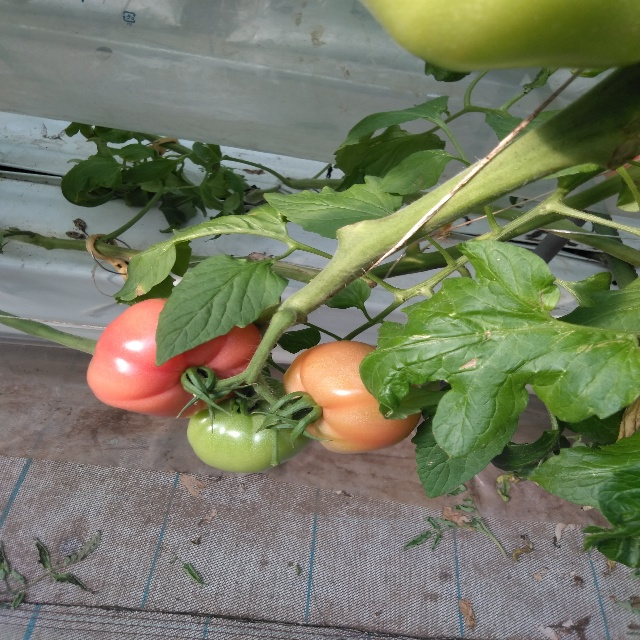b_fully_ripened: (87, 298, 263, 419)
b_green: (359, 1, 640, 72), (187, 376, 311, 473)
b_half_ripened: (282, 341, 422, 454)
